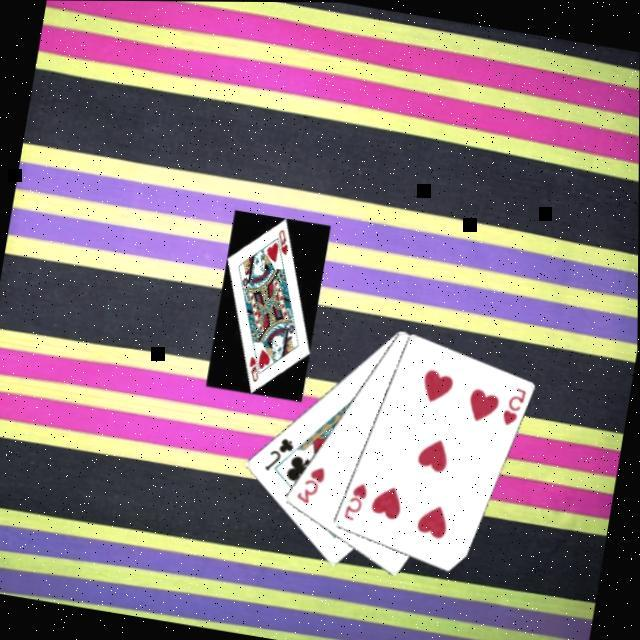3H: (292, 458, 329, 506)
5H: (498, 379, 530, 427), (339, 475, 371, 522)
JC: (260, 429, 297, 475)
